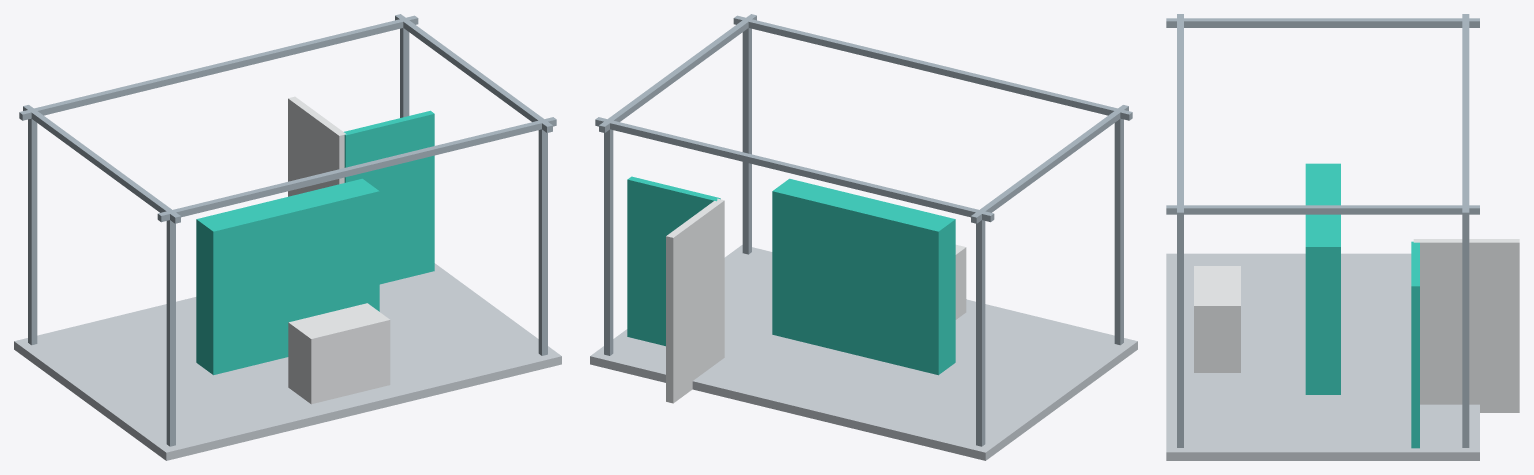
The picture shows the model from 3 angles, left to right: view 1: azimuth 30°, elevation 25°; view 2: azimuth 150°, elevation 25°; view 3: azimuth 270°, elevation 25°; orthographic projection. The views are drawn at different scales.
Parts seen in each view (by area): view 1: Exhibition Booth Concept; view 2: Exhibition Booth Concept; view 3: Exhibition Booth Concept.
Boxes of the visible parts, x1=… form: Exhibition Booth Concept: x1=14, y1=14, x2=561, y2=460; Exhibition Booth Concept: x1=590, y1=14, x2=1137, y2=460; Exhibition Booth Concept: x1=1166, y1=14, x2=1519, y2=460.
Size of the model in its own units: 6 by 3.49 by 4.51.
